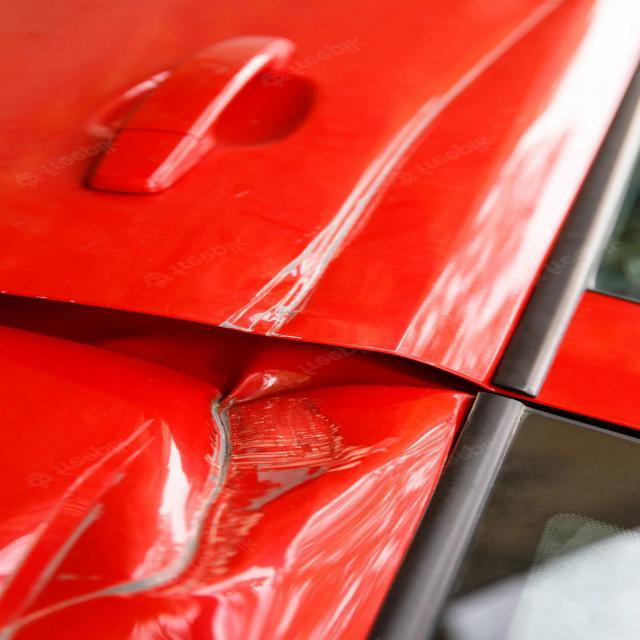dent: (16, 280, 527, 640)
